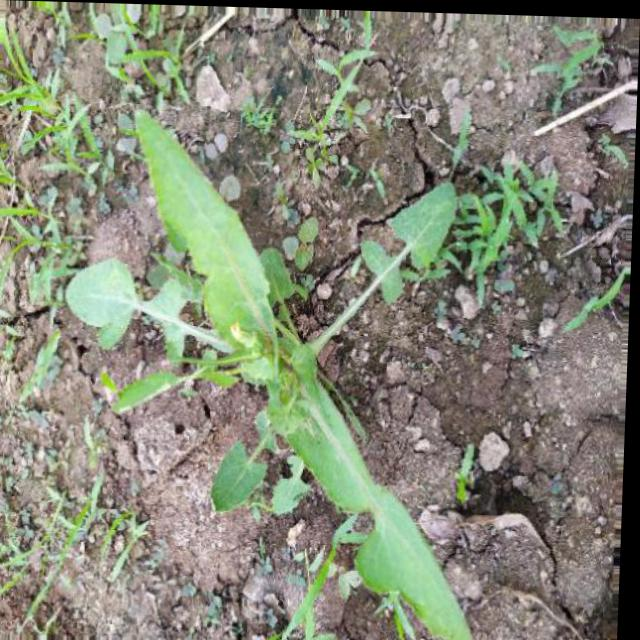weed: (37, 86, 543, 640)
